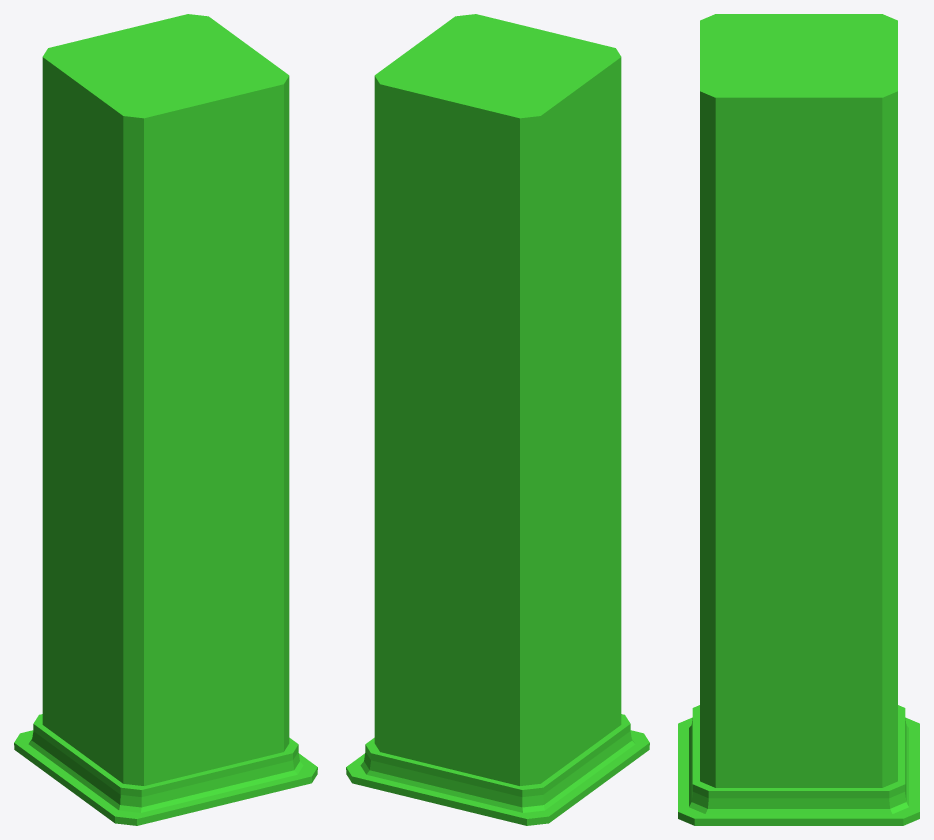
File: Pillar_13.fbx
3 renders of one model, left to right at view 1: azimuth 30°, elevation 25°; view 2: azimuth 150°, elevation 25°; view 3: azimuth 270°, elevation 25°, orthographic. The views are drawn at different scales.
Parts seen in each view (by area): view 1: Pillar_13_Top, Pillar_13_Bottom; view 2: Pillar_13_Top, Pillar_13_Bottom; view 3: Pillar_13_Top, Pillar_13_Bottom.
Boxes of the visible parts, bbox=[...] form: Pillar_13_Top: bbox=[42, 14, 289, 785]; Pillar_13_Bottom: bbox=[14, 714, 317, 825]; Pillar_13_Top: bbox=[374, 14, 621, 785]; Pillar_13_Bottom: bbox=[346, 714, 649, 825]; Pillar_13_Top: bbox=[700, 14, 897, 787]; Pillar_13_Bottom: bbox=[678, 705, 919, 825].
Size of the model in its own units: 139 by 457 by 139.
